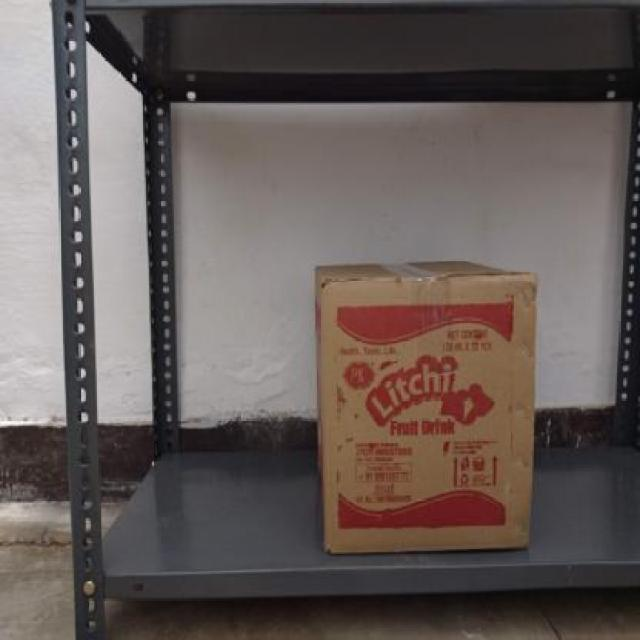box: (319, 278, 533, 554)
